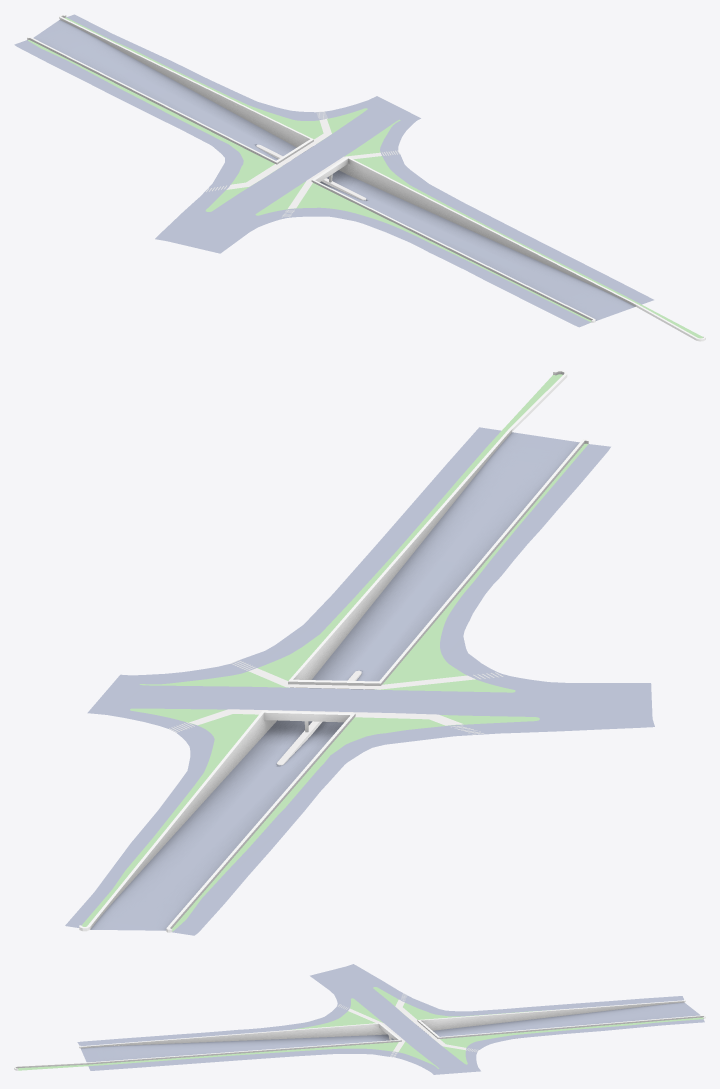
Rendered from Seifullina-Timiryazeva.glb.
The picture shows the model from 3 angles, top to bottom: view 1: azimuth 30°, elevation 25°; view 2: azimuth 150°, elevation 25°; view 3: azimuth 270°, elevation 25°; orthographic projection. The views are drawn at different scales.
Visible parts, largest first — view 1: group_12, group_8, group_1.002, group_9; view 2: group_12, group_1.002, group_8, group_9; view 3: group_12, group_8, group_1.002, group_9.
Boxes of the visible parts, bbox=[...] form: group_12: bbox=[14, 14, 653, 327]; group_8: bbox=[27, 14, 705, 341]; group_1.002: bbox=[28, 17, 702, 338]; group_9: bbox=[226, 119, 381, 208]; group_12: bbox=[65, 427, 654, 935]; group_1.002: bbox=[81, 374, 588, 931]; group_8: bbox=[79, 370, 588, 932]; group_9: bbox=[189, 668, 475, 765]; group_12: bbox=[77, 964, 704, 1074]; group_8: bbox=[14, 999, 705, 1070]; group_1.002: bbox=[17, 987, 703, 1070]; group_9: bbox=[348, 999, 466, 1051].
Size of the model in its own units: 162 by 8 by 427.
5 materials, 2 textured.
